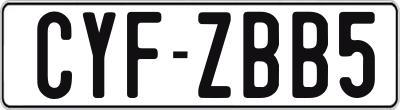5: (339, 12, 378, 101)
B: (243, 12, 280, 103), (291, 9, 329, 95)
C: (34, 10, 69, 98)
F: (124, 12, 161, 102)
Y: (83, 11, 118, 100)
Z: (195, 12, 230, 103)
